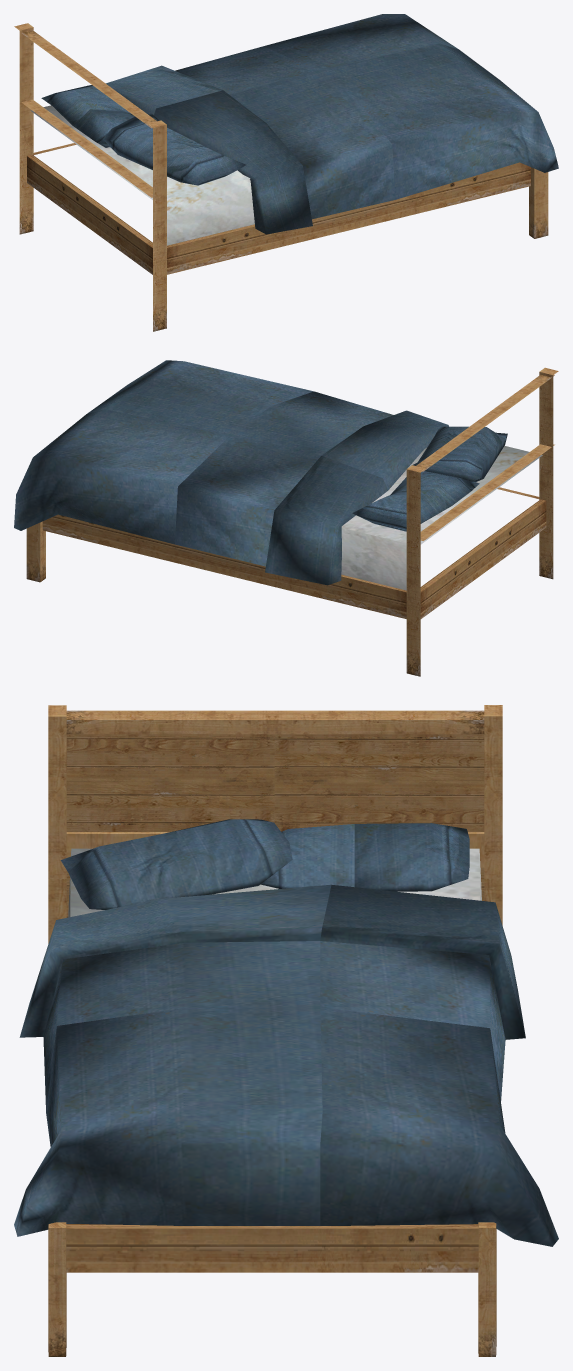
Rendered from Prop_Bed2.glb.
3 renders of one model, top to bottom at view 1: azimuth 30°, elevation 25°; view 2: azimuth 150°, elevation 25°; view 3: azimuth 270°, elevation 25°, orthographic. The views are drawn at different scales.
Parts seen in each view (by area): view 1: xiutz_bed2_0; view 2: xiutz_bed2_0; view 3: xiutz_bed2_0.
Part boxes in pixels (x1,y1,x2,y2): xiutz_bed2_0: [14, 14, 558, 331]; xiutz_bed2_0: [14, 360, 558, 676]; xiutz_bed2_0: [14, 705, 558, 1356].
Bounding box in the file's own units: 3.9 × 1.92 × 2.83.
Materials: 2 (2 with a texture image).
